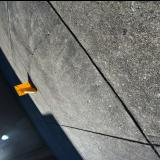cone: (14, 81, 36, 95)
